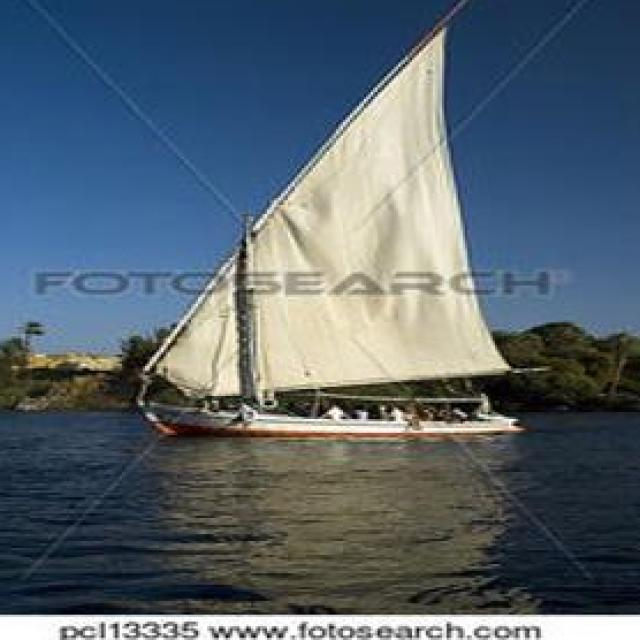sailboat: (143, 0, 536, 435)
